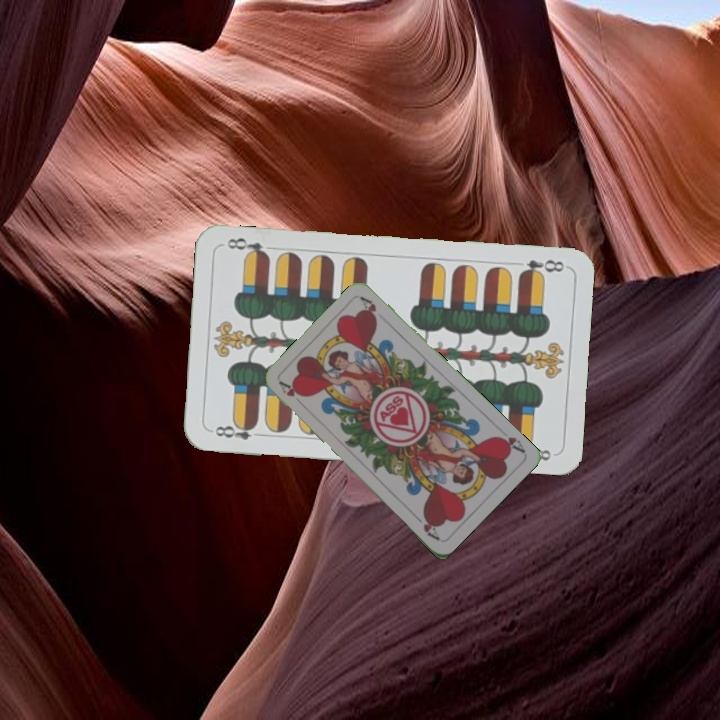E8: (211, 418, 267, 442), (515, 255, 567, 280)
HA: (275, 377, 307, 410), (491, 431, 528, 456)
